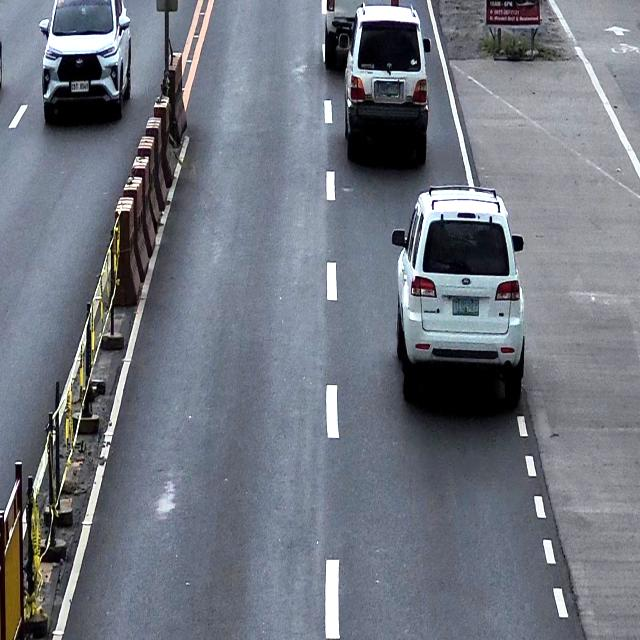Car: (392, 183, 526, 404), (344, 3, 431, 166), (38, 0, 131, 123), (325, 0, 400, 74)
License-Plate: (452, 294, 480, 318), (378, 80, 400, 96), (70, 80, 90, 93)
